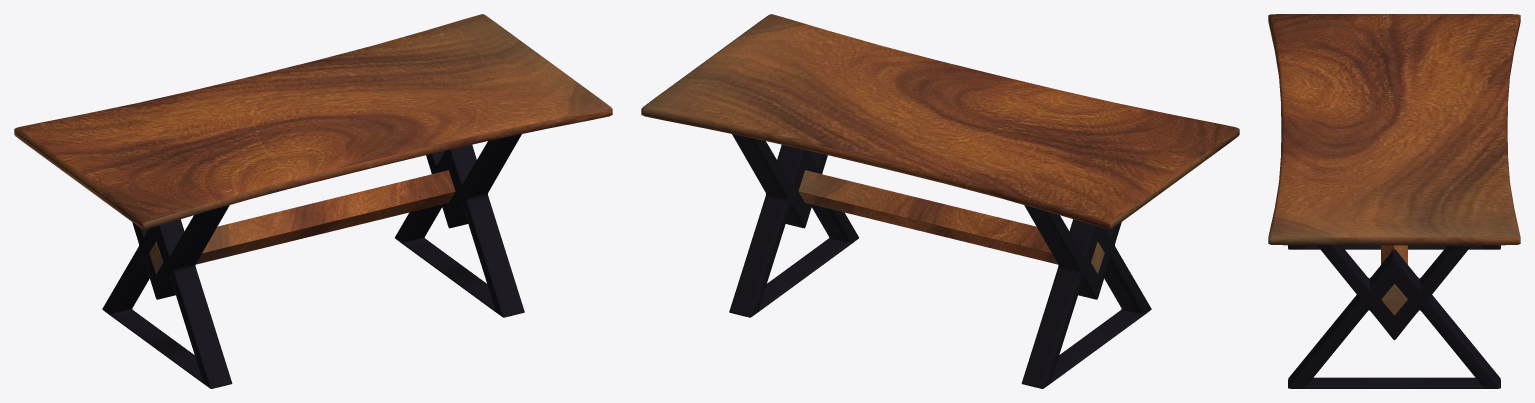
Rendered from TABLE1.fbx.
3 views of the same model, side by side, from view 1: azimuth 30°, elevation 25°; view 2: azimuth 150°, elevation 25°; view 3: azimuth 270°, elevation 25° (orthographic). The views are drawn at different scales.
Visible parts, largest first — view 1: Cube.002; view 2: Cube.002; view 3: Cube.002.
Part boxes in pixels (x1,y1,x2,y2): Cube.002: (14,14,612,388); Cube.002: (641,14,1239,388); Cube.002: (1268,14,1520,388).
Size of the model in its own units: 213 by 84.82 by 102.
2 materials, 1 textured.
